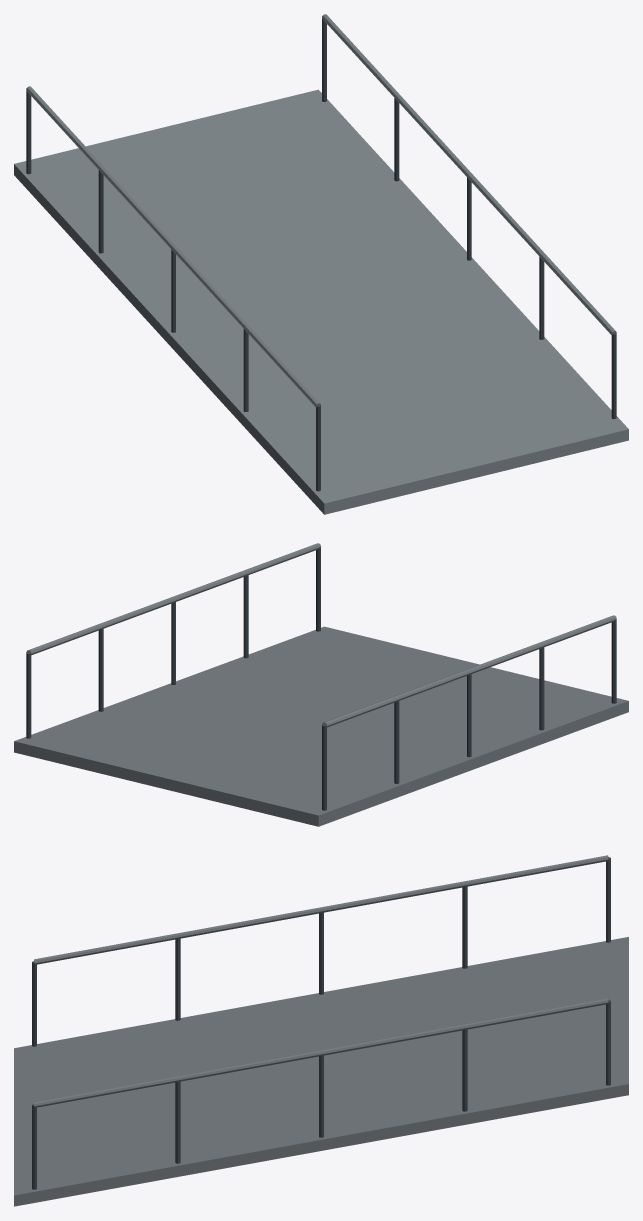
Rendered from InterLevelRamp.fbx.
The picture shows the model from 3 angles, top to bottom: view 1: azimuth 30°, elevation 25°; view 2: azimuth 150°, elevation 25°; view 3: azimuth 270°, elevation 25°; orthographic projection.
Parts seen in each view (by area): view 1: InterLevelRamp; view 2: InterLevelRamp; view 3: InterLevelRamp.
Part boxes in pixels (left/top/right/bottom): InterLevelRamp: left=14, top=14, right=628, bottom=514; InterLevelRamp: left=14, top=543, right=628, bottom=826; InterLevelRamp: left=14, top=855, right=628, bottom=1206.
Bounding box in the file's own units: 340 × 222 × 600.
1 material, 1 textured.
